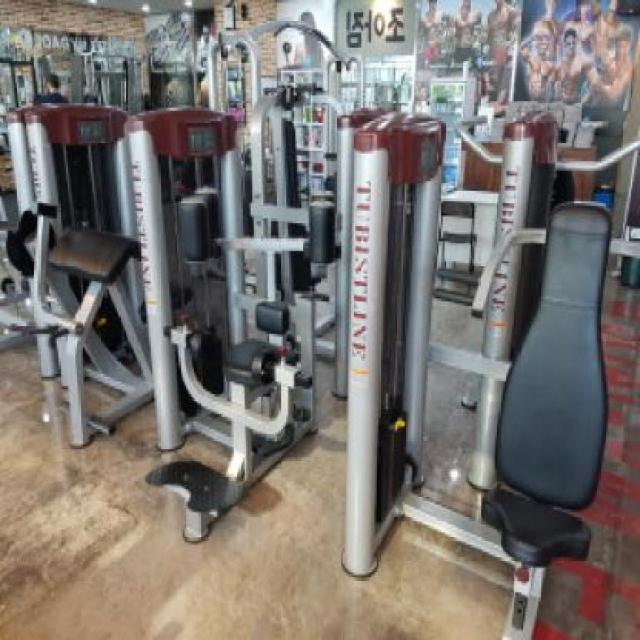Chest Press machine: (472, 200, 638, 640)
arm curl machine: (6, 202, 159, 452)
